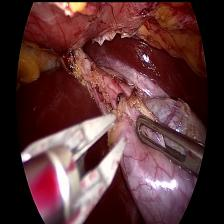Clipper: (18, 106, 128, 224)
Grasper: (133, 113, 202, 180)
